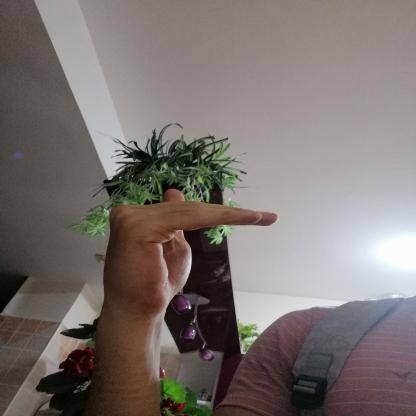KHAA: (86, 176, 297, 319)
